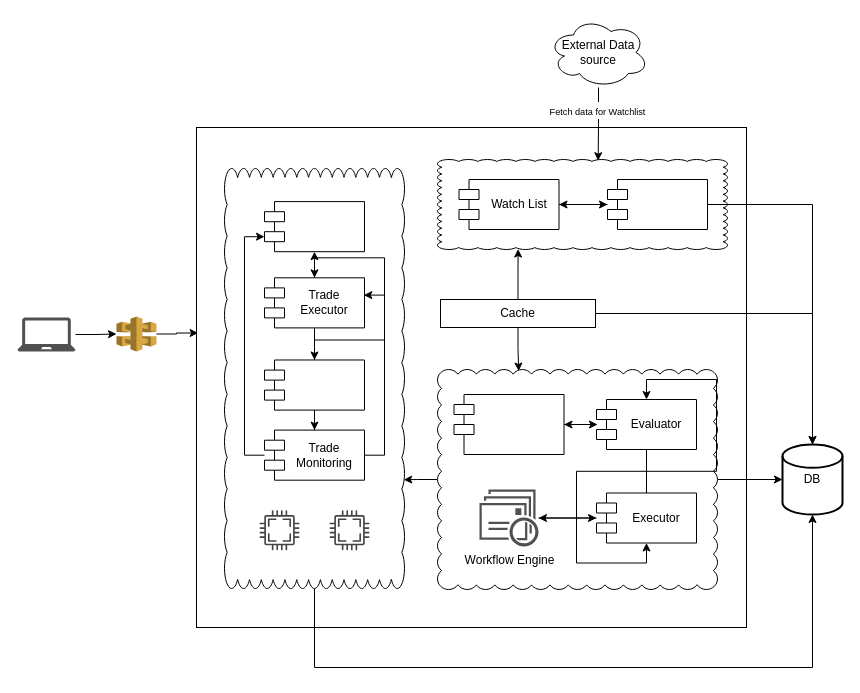
The diagram is 860 pixels wide and 693 high, and some of its shapes have lost their labels. Here are the shapes that lost their labels. From the top down, the box of each, then its label:
(606, 178, 708, 230): Aggregator/ Processor
(264, 201, 364, 252): Trade Journaling
(264, 359, 364, 410): Alert / Notification
(453, 394, 564, 454): Builder
